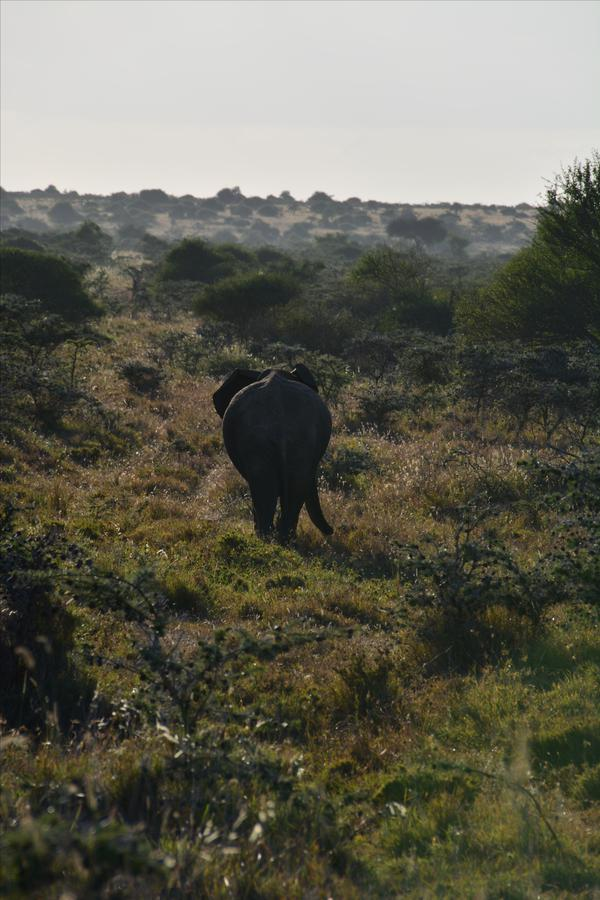elephant: (387, 228, 508, 408)
